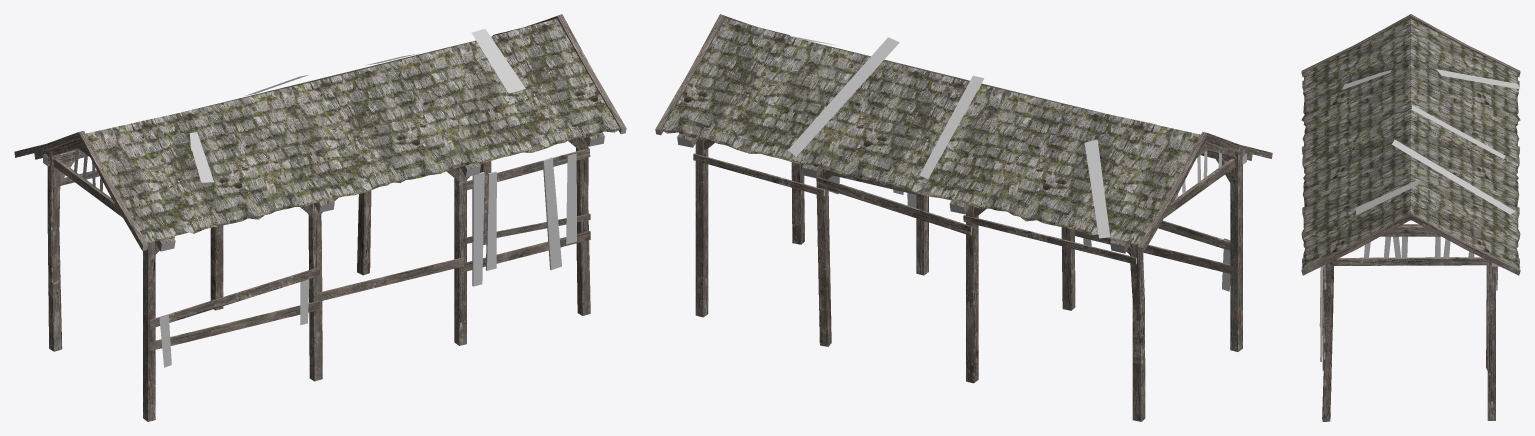
Rendered from Shed7_LOD1.fbx.
3 views of the same model, side by side, from view 1: azimuth 30°, elevation 25°; view 2: azimuth 150°, elevation 25°; view 3: azimuth 270°, elevation 25° (orthographic). The views are drawn at different scales.
Visible parts, largest first — view 1: polySurface1279; view 2: polySurface1279; view 3: polySurface1279.
Part boxes in pixels (x1,y1,x2,y2): polySurface1279: [14, 14, 626, 421]; polySurface1279: [655, 14, 1272, 421]; polySurface1279: [1301, 14, 1520, 421].
Size of the model in its own units: 10.66 by 5.53 by 4.93.
